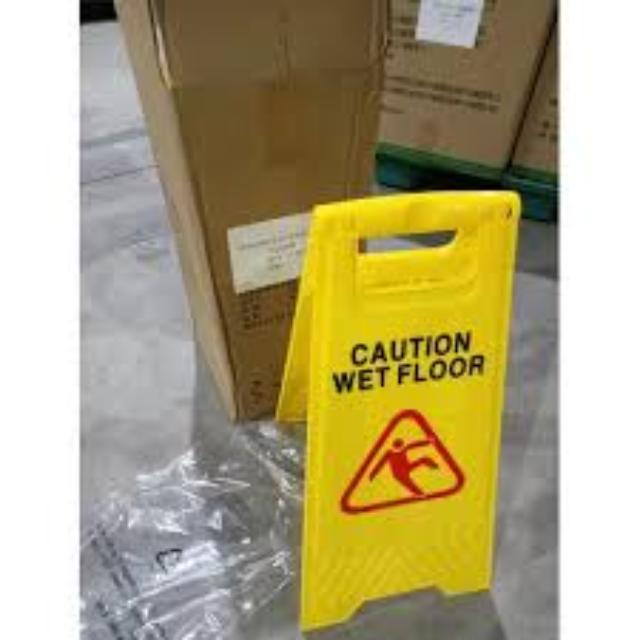tron truot: (276, 191, 515, 629)
